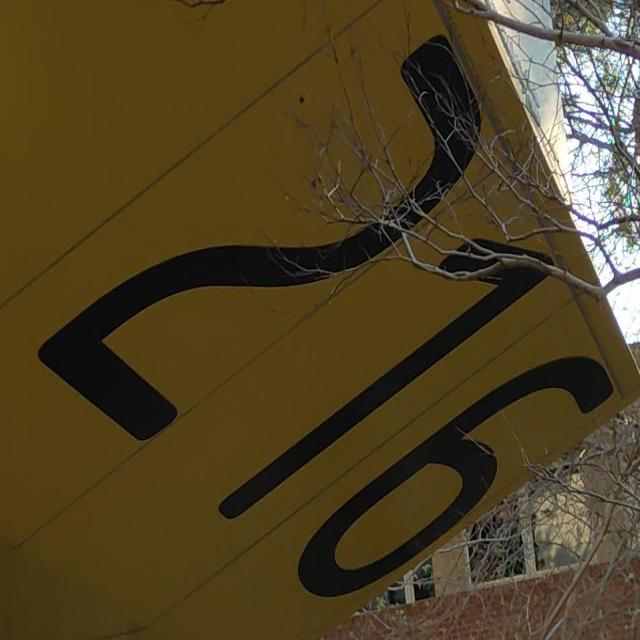character: (35, 28, 487, 443), (216, 233, 557, 523), (297, 350, 616, 602)
